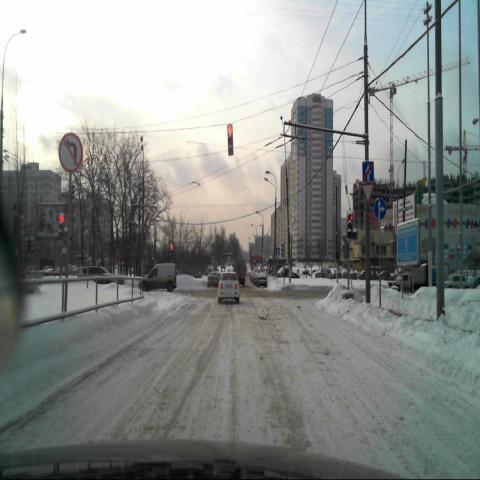3_18_2: (59, 131, 83, 173)
5_6: (362, 160, 374, 181)
